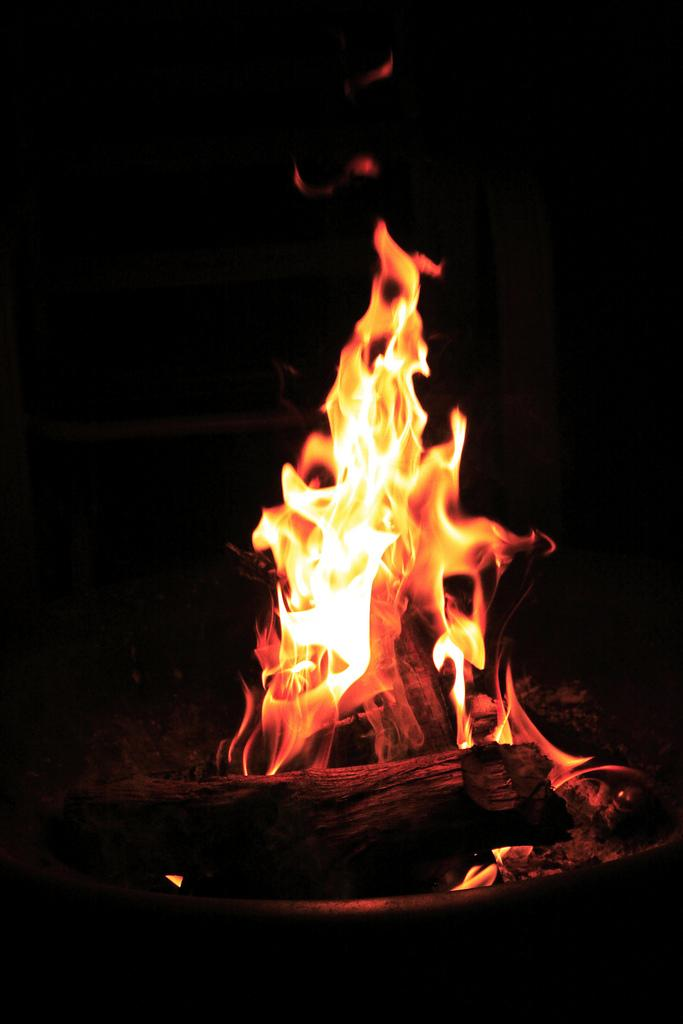fire: (262, 470, 392, 708), (318, 318, 442, 452)
